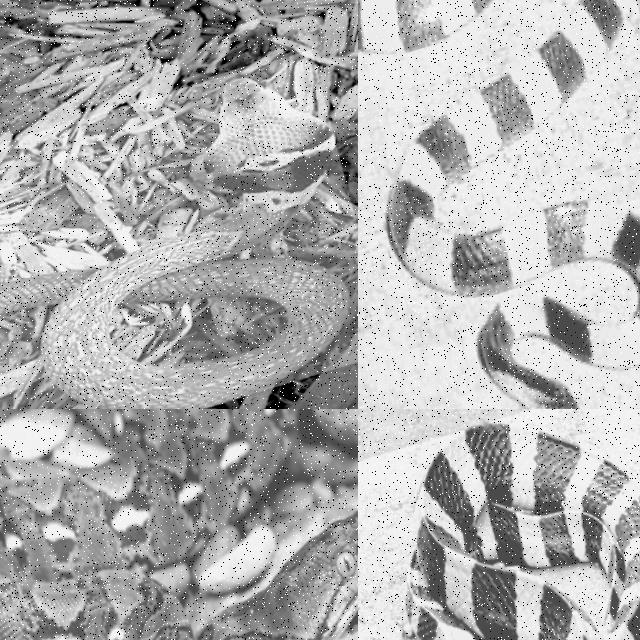Bungarus fasciatus: (387, 0, 639, 408), (406, 424, 639, 639)
Malayopython reticulatus: (0, 409, 297, 639)
Naja kaouthia: (0, 78, 348, 408)
snake: (0, 78, 348, 408), (387, 0, 639, 408), (0, 409, 297, 639), (406, 424, 639, 639)
